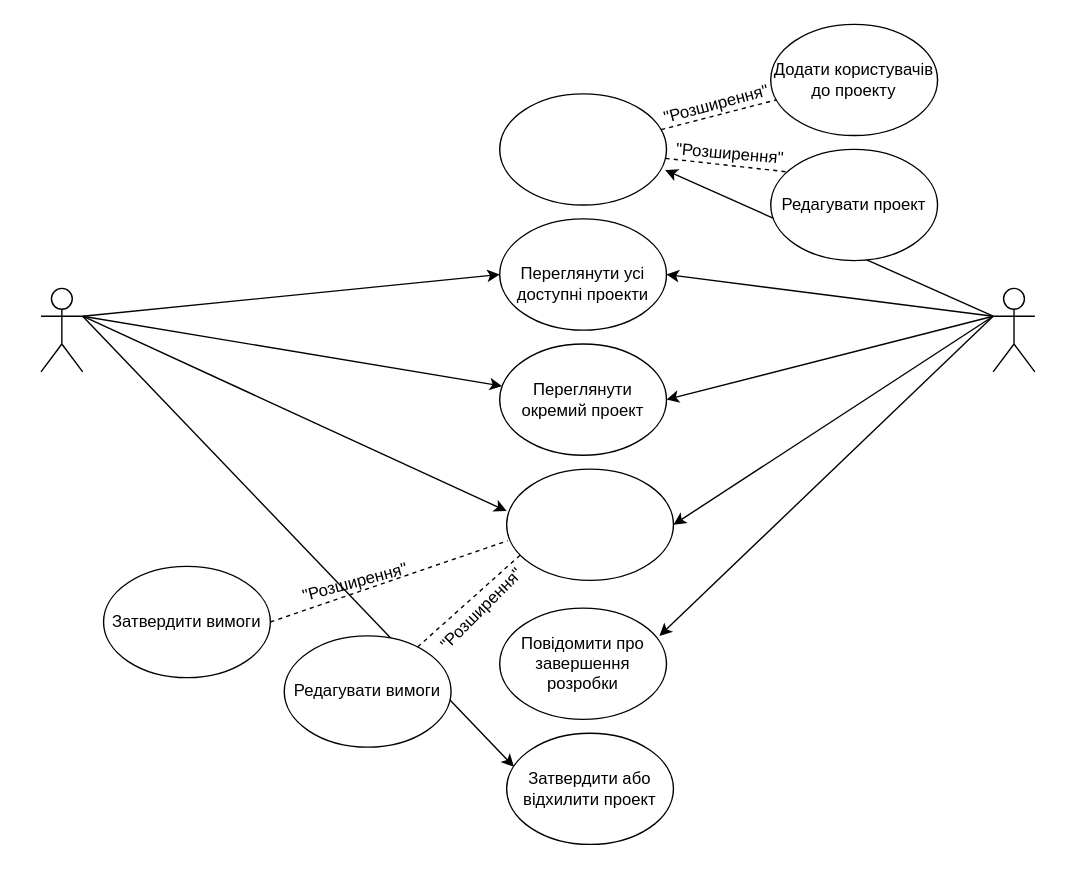
Some shapes in this 1077 by 869 pixel diagram are drawn without their labels. The shapes that lost their labels are listed below. From the top down, each one's box as (x1, y1, x2, y2) in pixels, then its label:
(498, 92, 667, 205): Створити проект
(40, 287, 83, 372): Замовник
(992, 287, 1035, 372): Менеджер проектів
(505, 468, 673, 580): Переглянути вимоги
